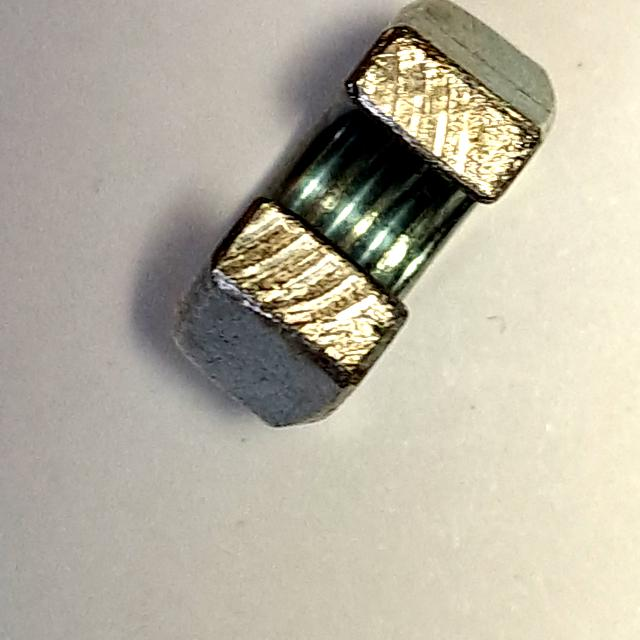Side-Fracture: (162, 1, 568, 439)
